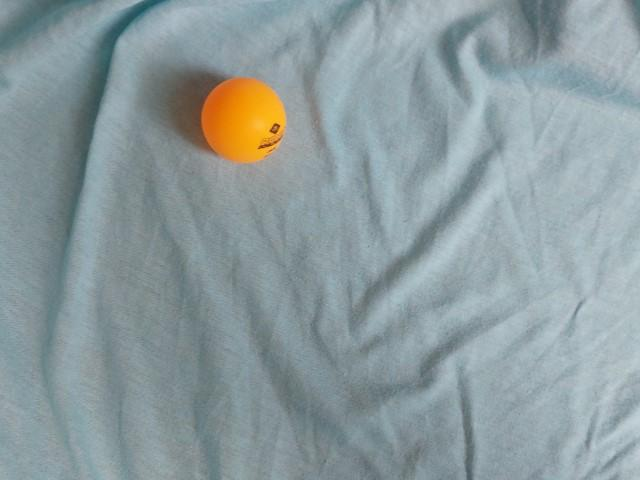oball: (196, 70, 295, 171)
